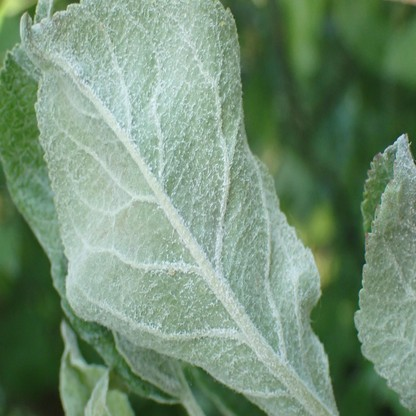powdery_mildew: (25, 1, 334, 416), (355, 133, 416, 411), (0, 47, 68, 293), (55, 316, 111, 416)
